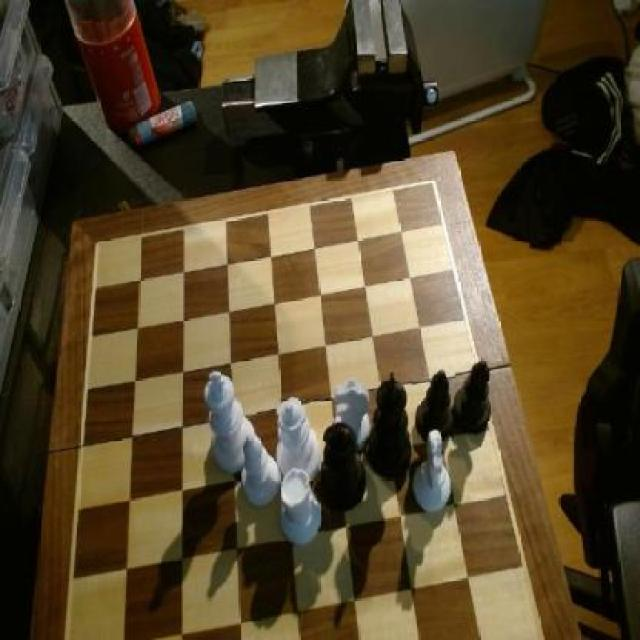bishop: (454, 355, 495, 444), (417, 366, 457, 448)
black-bishop: (368, 374, 412, 481)
black-pawn: (318, 418, 369, 511)
black-rook: (242, 435, 280, 508)
white-bishop: (204, 369, 258, 477)
white-king: (411, 428, 454, 518), (332, 377, 373, 455)
white-pawn: (277, 396, 322, 482)
white-queen: (277, 466, 325, 547)
